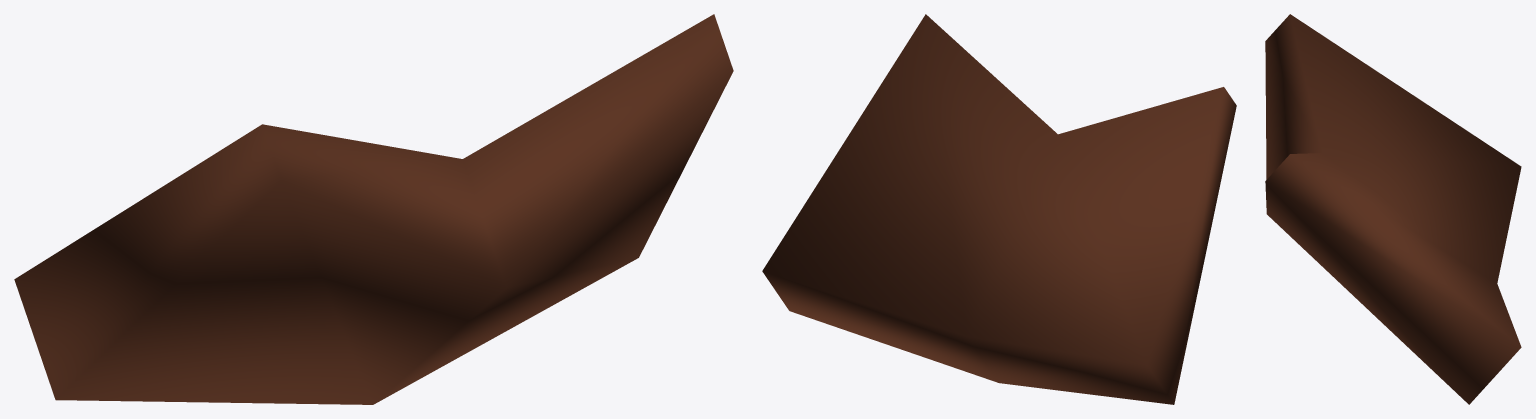
Rendered from beard.fbx.
The picture shows the model from 3 angles, left to right: view 1: azimuth 30°, elevation 25°; view 2: azimuth 150°, elevation 25°; view 3: azimuth 270°, elevation 25°; orthographic projection. The views are drawn at different scales.
Visible parts, largest first — view 1: Beard; view 2: Beard; view 3: Beard.
Boxes of the visible parts, left/top/right/bottom form: Beard: left=14, top=14, right=733, bottom=404; Beard: left=762, top=14, right=1236, bottom=404; Beard: left=1265, top=14, right=1521, bottom=404.
Bounding box in the file's own units: 12.7 × 8.74 × 7.6.
